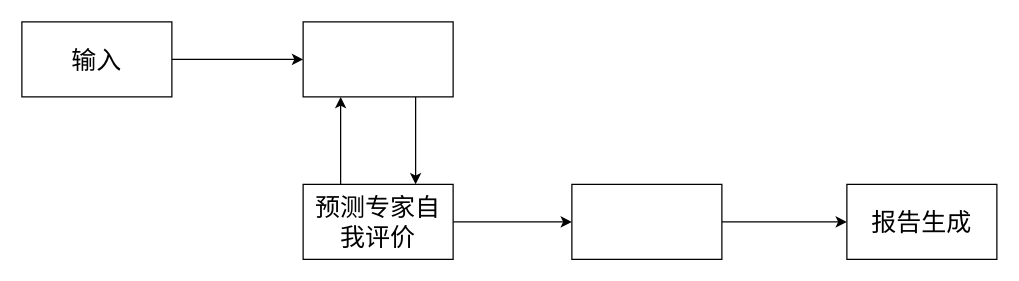
The diagram is 1019 pixels wide and 281 high, and some of its shapes have lost their labels. The shapes that lost their labels are listed below. From the top down, each one's centre as x and y in pixels, then its label:
At [377,59]: "材料字段预测专家".
At [646,221]: "验收专家".
